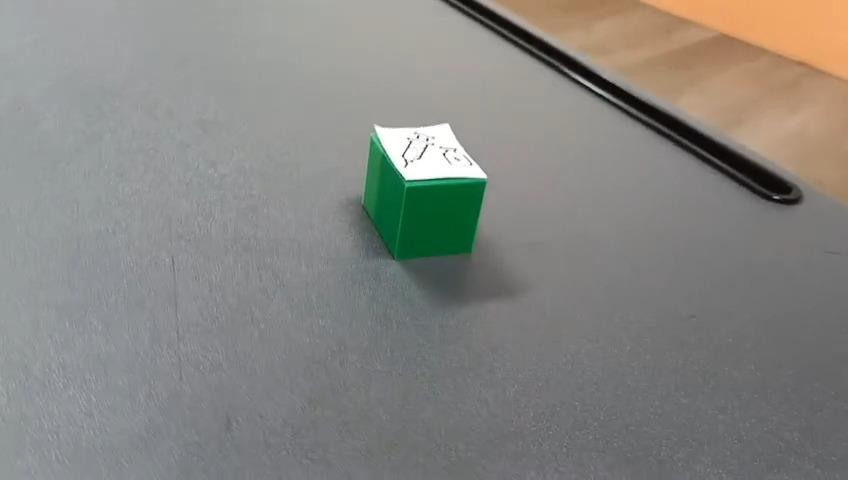antiseptic cream: (360, 120, 488, 261)
